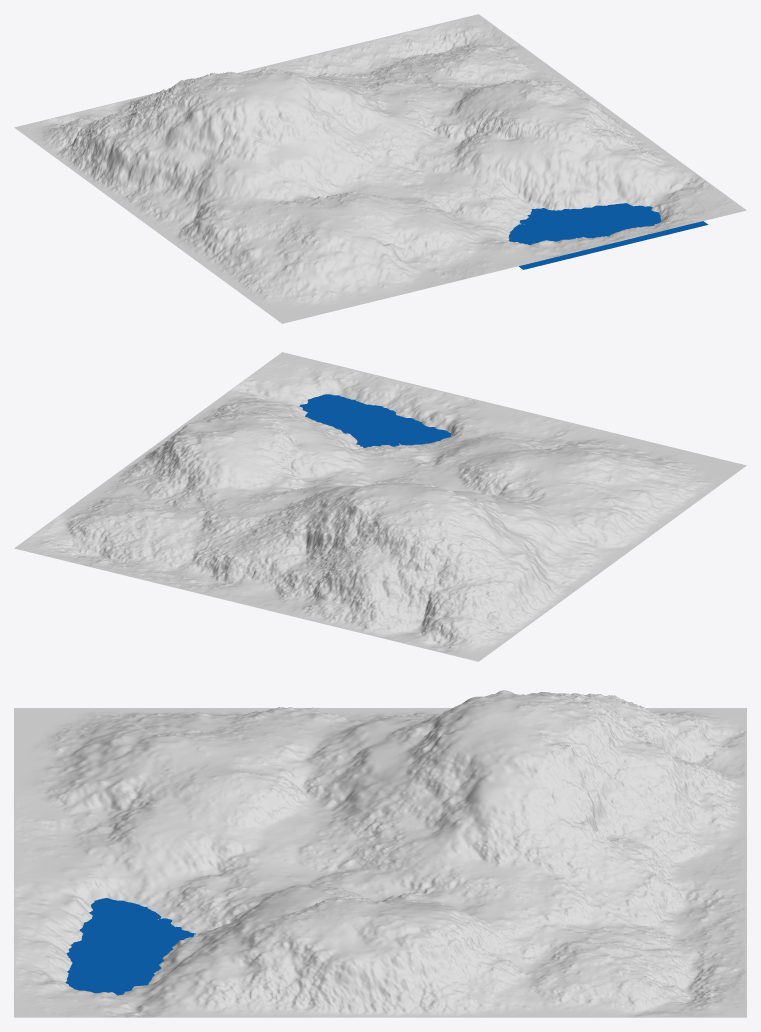
File: uploads_files_5982472_landscape_by_freak.fbx
The picture shows the model from 3 angles, top to bottom: view 1: azimuth 30°, elevation 25°; view 2: azimuth 150°, elevation 25°; view 3: azimuth 270°, elevation 25°; orthographic projection. The views are drawn at different scales.
Visible parts, largest first — view 1: 高度图_LOWPOLY, 平面; view 2: 高度图_LOWPOLY, 平面; view 3: 高度图_LOWPOLY, 平面.
Part boxes in pixels (<box>): 高度图_LOWPOLY: <box>14,14,746,323</box>; 平面: <box>508,203,708,269</box>; 高度图_LOWPOLY: <box>14,352,746,661</box>; 平面: <box>299,394,451,447</box>; 高度图_LOWPOLY: <box>14,690,746,1017</box>; 平面: <box>65,898,195,995</box>.
Bounding box in the file's own units: 20440 × 3849 × 20440.
